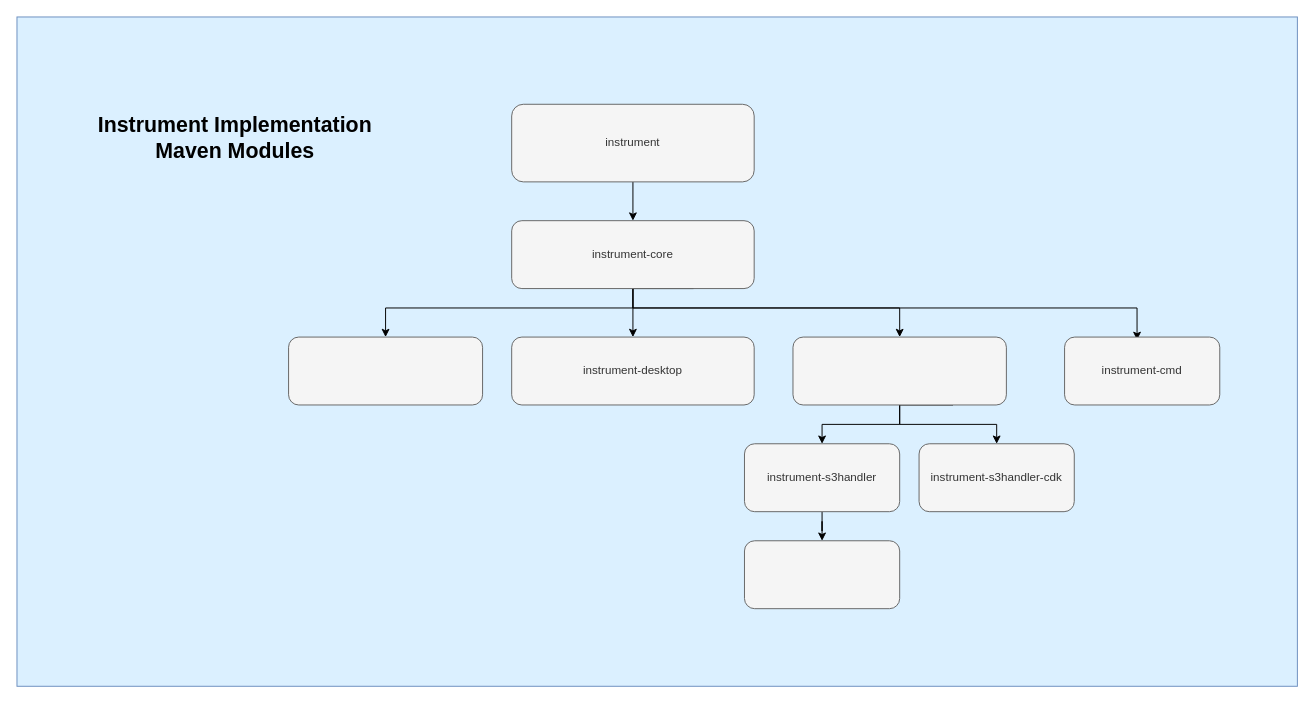
This 1314x703 diagram has some shape labels left out. Here are the shapes that lost their labels. From the top down, the centre of each, then its label:
pixel 385 370: instrument-st
pixel 899 370: instrument-aws
pixel 822 574: instrument-s3handler-st
